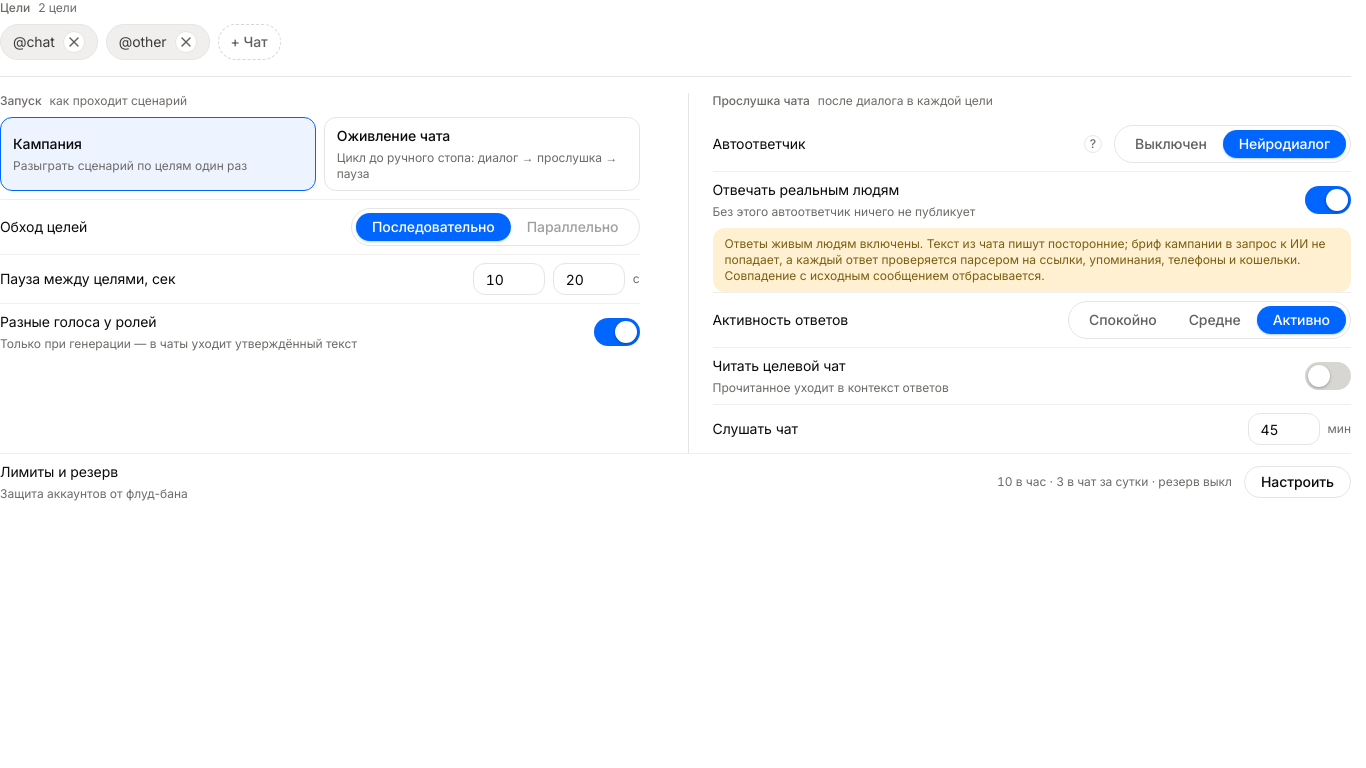
Test: the reserve badge counts the pool as it stands, not as the roster was arranged
The width and height of the screenshot is (1366, 768).
Step 1. Click the button "Настроить" → (1298, 482), box 1244,466 -> 1351,498
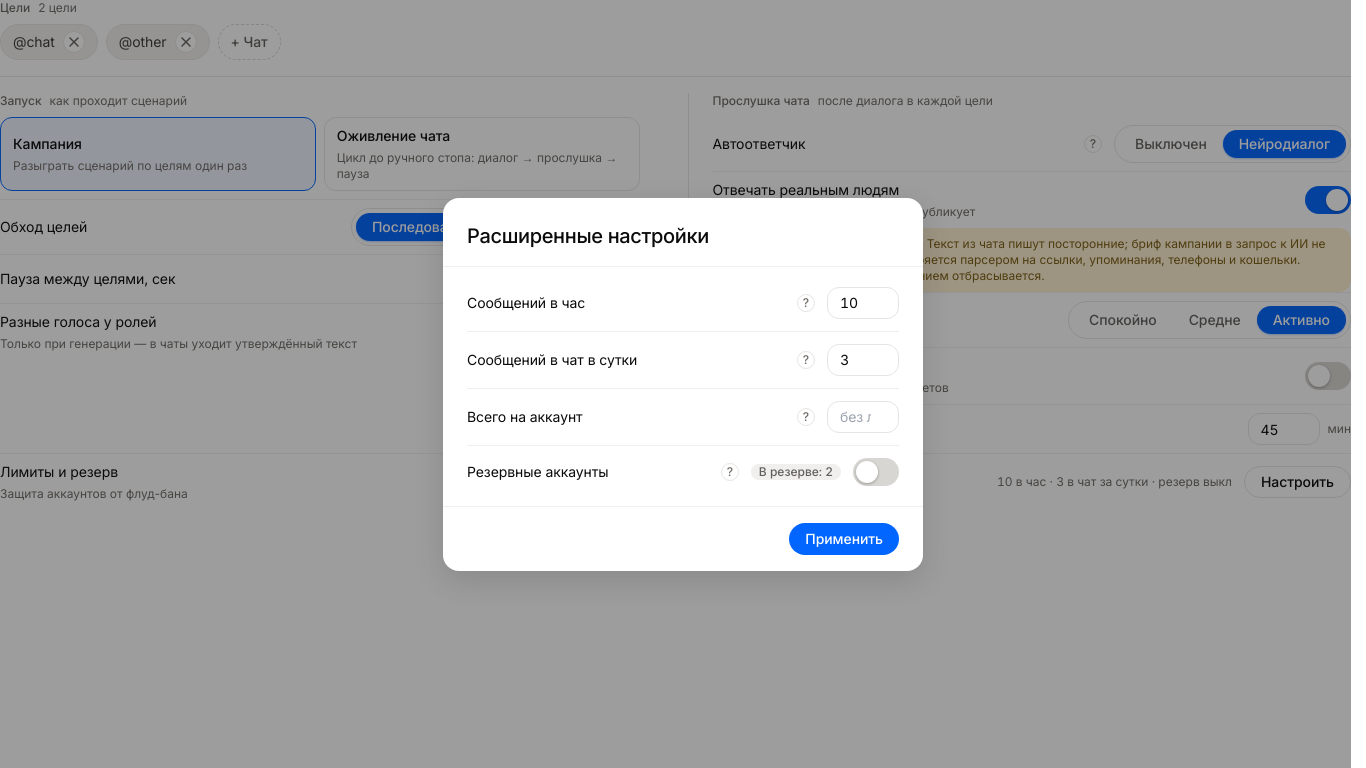
expect the text "В резерве: 2" is shown: met, box 751,464 -> 841,480
